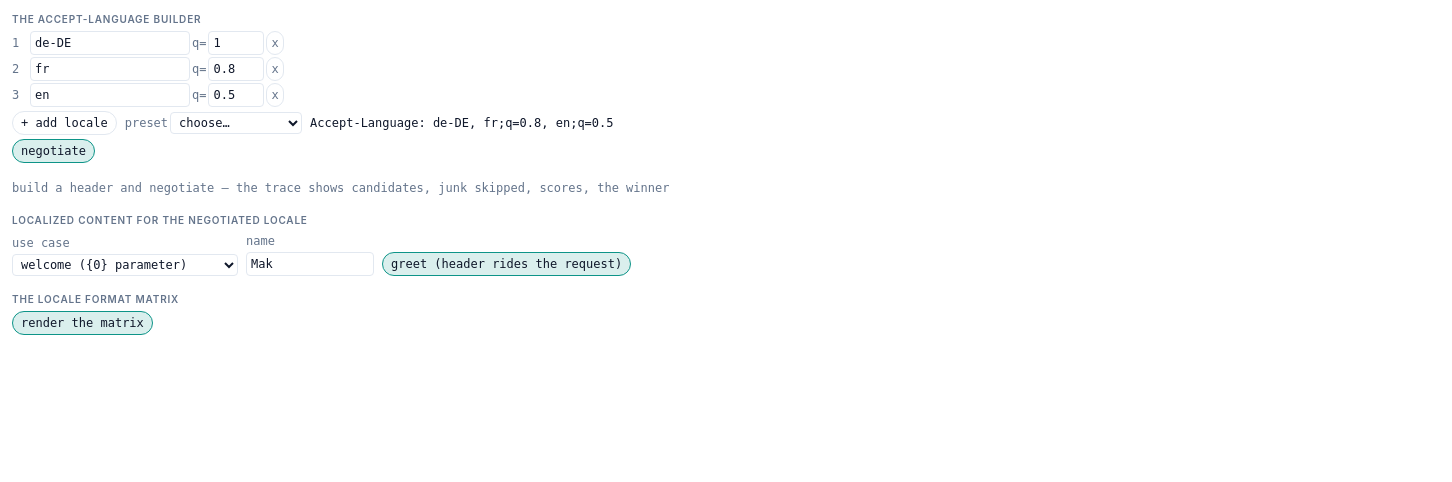
Scenario: NegotiatorDemo › renders the format matrix with per-locale rows and the zone contrast
The width and height of the screenshot is (1452, 482).
Click the button with test id "i18n-format-run": coordinates (82, 323) [12,311,153,335]
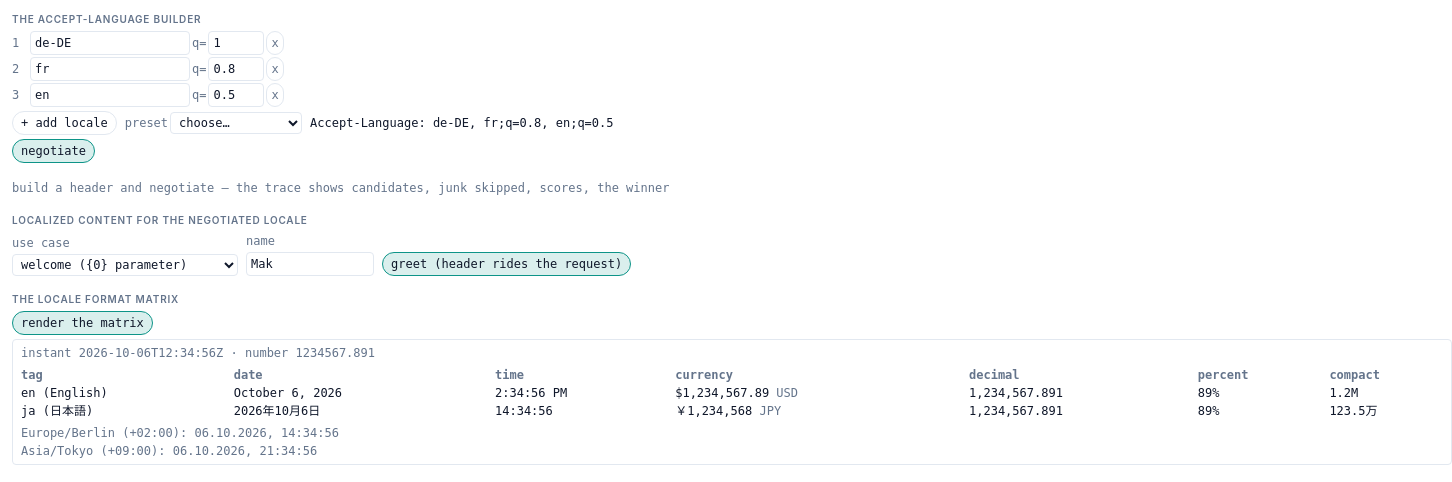
Check: the table with test id "i18n-format-table" shows "October 6, 2026", box [234,386,342,400]
Check: the table with test id "i18n-format-table" shows "$1,234,567.89", box [675,386,769,400]
Check: the table with test id "i18n-format-table" shows "USD", box [776,386,798,400]
